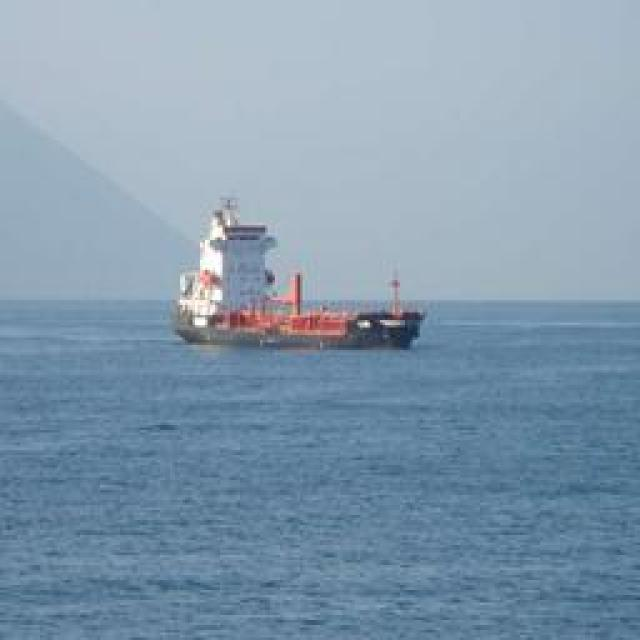Ship: (173, 194, 428, 354)
